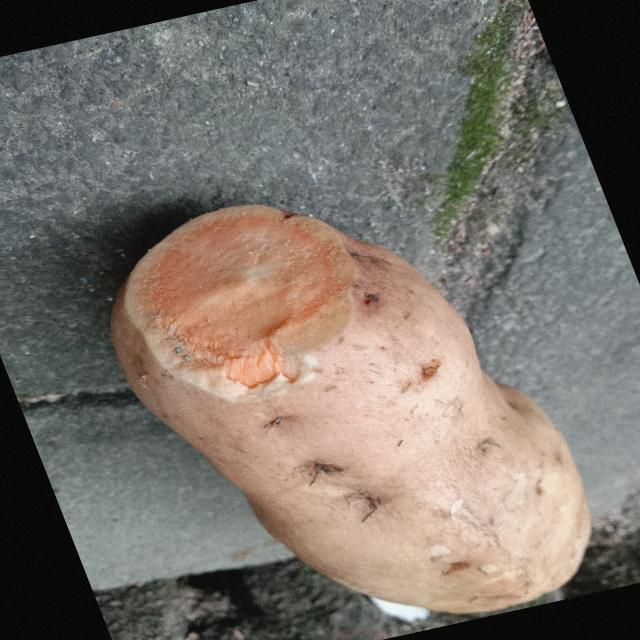Healthy Sweet Potato: (128, 205, 355, 388)
